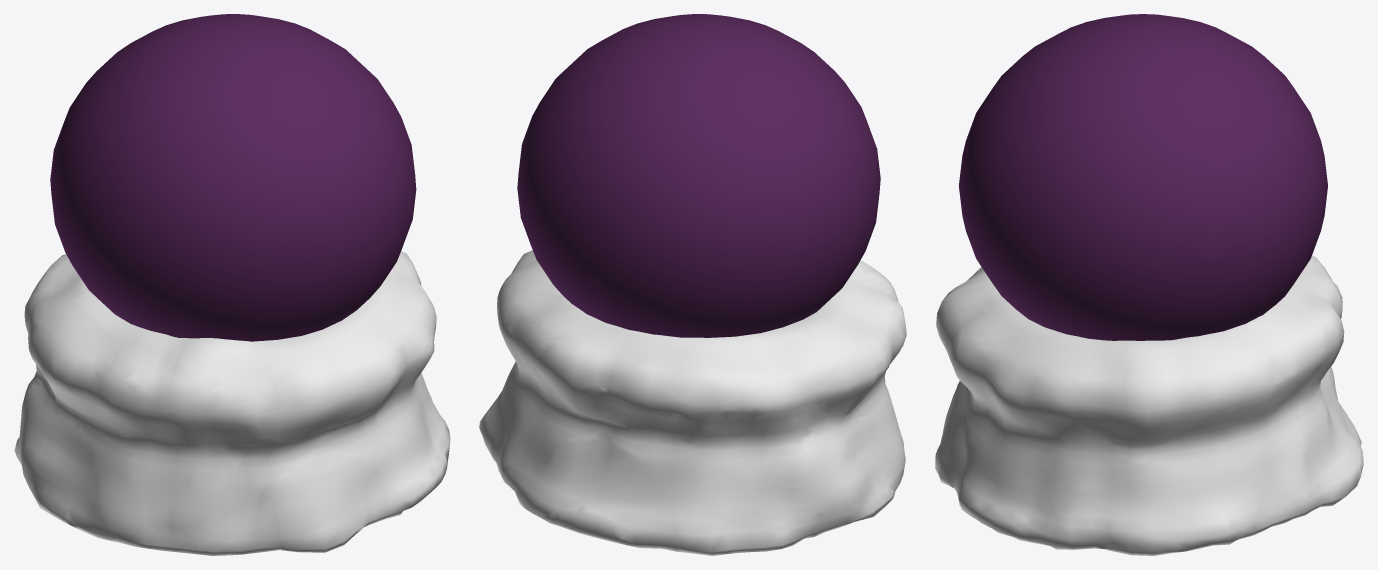
File: orb.fbx
The picture shows the model from 3 angles, left to right: view 1: azimuth 30°, elevation 25°; view 2: azimuth 150°, elevation 25°; view 3: azimuth 270°, elevation 25°; orthographic projection.
Parts seen in each view (by area): view 1: Sphere, Cylinder; view 2: Sphere, Cylinder; view 3: Sphere, Cylinder.
Part boxes in pixels (left/top/right/bottom): Sphere: left=50, top=14, right=416, bottom=341; Cylinder: left=14, top=251, right=450, bottom=555; Sphere: left=517, top=14, right=880, bottom=337; Cylinder: left=479, top=250, right=906, bottom=555; Sphere: left=959, top=14, right=1327, bottom=340; Cylinder: left=935, top=255, right=1363, bottom=555.
Bounding box in the file's own units: 238 × 268 × 232.
